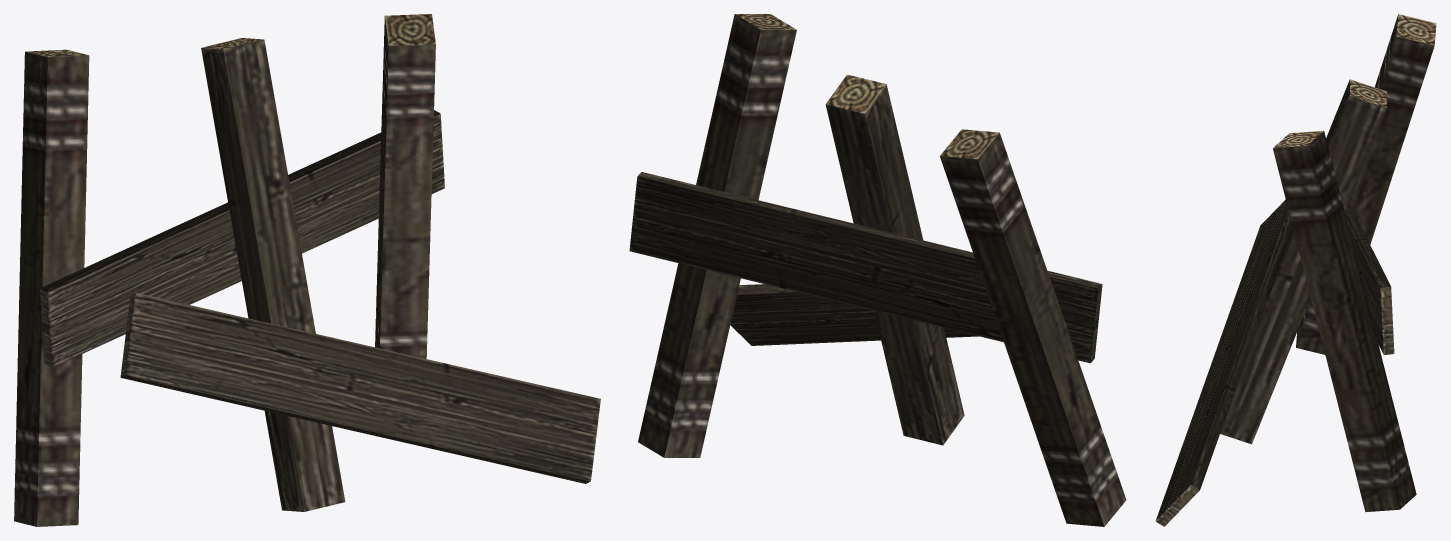
File: Wood04_Parts_LostTemple_001.FBX
3 renders of one model, left to right at view 1: azimuth 30°, elevation 25°; view 2: azimuth 150°, elevation 25°; view 3: azimuth 270°, elevation 25°, orthographic. The views are drawn at different scales.
Parts seen in each view (by area): view 1: Wood04_Parts_LostTemple_001; view 2: Wood04_Parts_LostTemple_001; view 3: Wood04_Parts_LostTemple_001.
Boxes of the visible parts, left/top/right/bottom form: Wood04_Parts_LostTemple_001: left=14, top=14, right=600, bottom=526; Wood04_Parts_LostTemple_001: left=629, top=14, right=1126, bottom=526; Wood04_Parts_LostTemple_001: left=1155, top=14, right=1436, bottom=526.
Size of the model in its own units: 195 by 160 by 114.
Materials: 1 (1 with a texture image).
